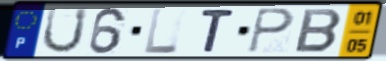6: (86, 6, 128, 56)
B: (292, 7, 344, 55)
L: (143, 7, 180, 56)
P: (246, 7, 296, 55)
T: (199, 8, 237, 54)
U: (39, 7, 90, 55)
